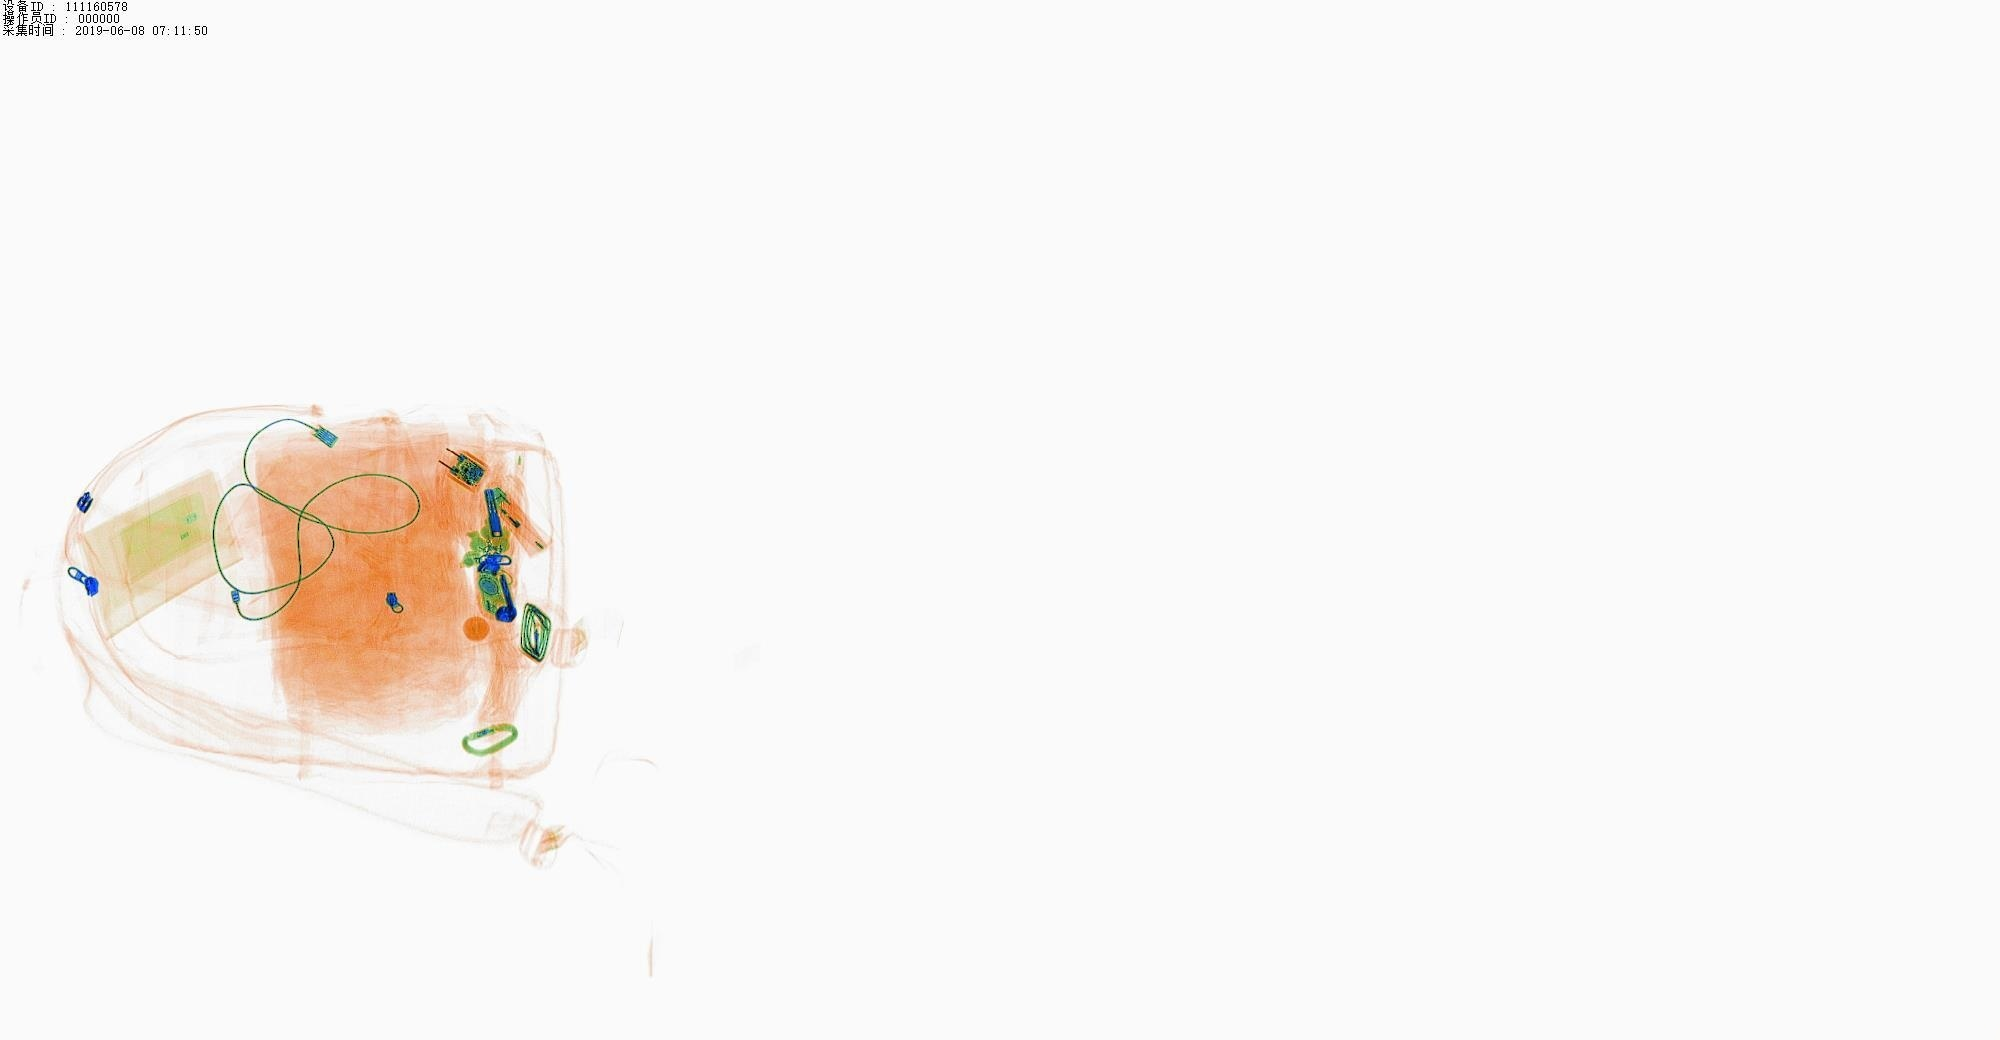NonmetallicFire: (479, 482, 585, 582)
